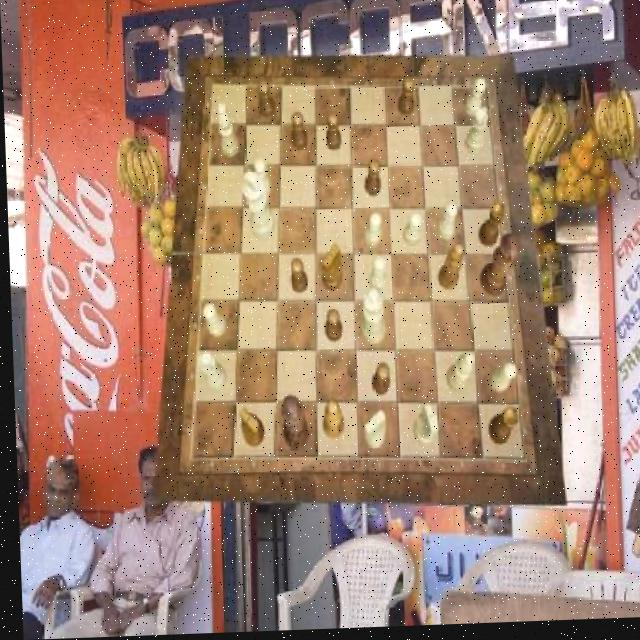bishop: (435, 247, 463, 294), (318, 403, 342, 442)
black-bishop: (278, 396, 306, 452)
black-king: (237, 410, 263, 450), (318, 246, 340, 292)
black-knight: (396, 80, 415, 119), (363, 160, 381, 199), (257, 81, 275, 120), (288, 261, 307, 296), (325, 115, 342, 154), (290, 114, 307, 152), (323, 310, 341, 345), (370, 366, 388, 399)
black-pawn: (478, 237, 521, 301)
black-queen: (476, 204, 504, 250), (484, 410, 516, 450)
black-rook: (217, 104, 239, 159), (443, 354, 472, 395)
white-bishop: (242, 170, 275, 244)
white-king: (409, 406, 435, 449), (360, 412, 384, 452)
white-knight: (463, 81, 486, 120), (487, 365, 514, 397), (200, 303, 224, 338), (434, 206, 456, 244), (401, 215, 421, 250), (252, 160, 270, 198), (367, 259, 385, 295), (362, 214, 380, 249)
white-pawn: (358, 288, 384, 348)
white-queen: (464, 112, 490, 159), (197, 352, 225, 393)
